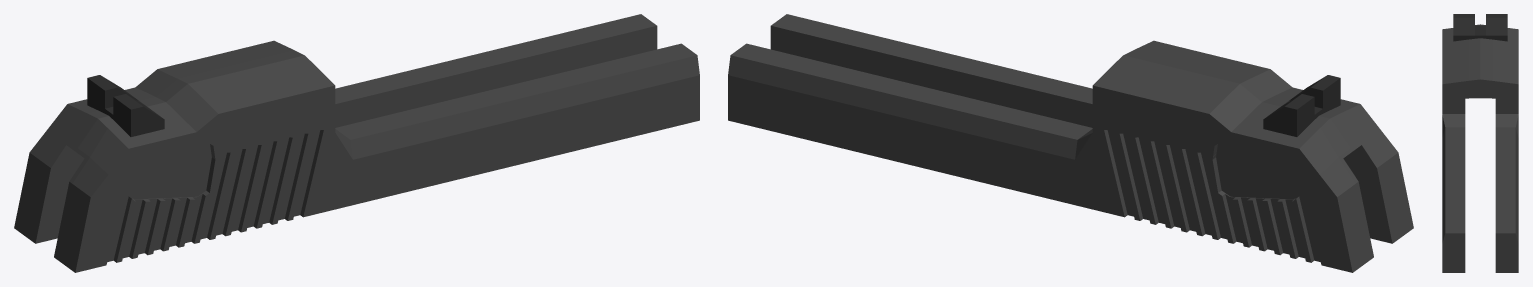
Rendered from Pistol3_02_2.fbx.
3 renders of one model, left to right at view 1: azimuth 30°, elevation 25°; view 2: azimuth 150°, elevation 25°; view 3: azimuth 270°, elevation 25°, orthographic. The views are drawn at different scales.
Parts seen in each view (by area): view 1: Pistol3_02_2; view 2: Pistol3_02_2; view 3: Pistol3_02_2.
Part boxes in pixels (left/top/right/bottom): Pistol3_02_2: left=14, top=14, right=699, bottom=272; Pistol3_02_2: left=728, top=14, right=1413, bottom=272; Pistol3_02_2: left=1442, top=14, right=1518, bottom=272.
Bounding box in the file's own units: 0.2764 × 0.0596 × 0.0469.
